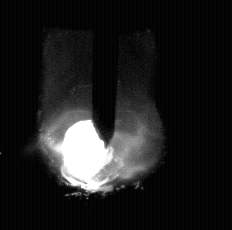arame: (93, 0, 117, 147)
poca: (37, 0, 164, 230)
